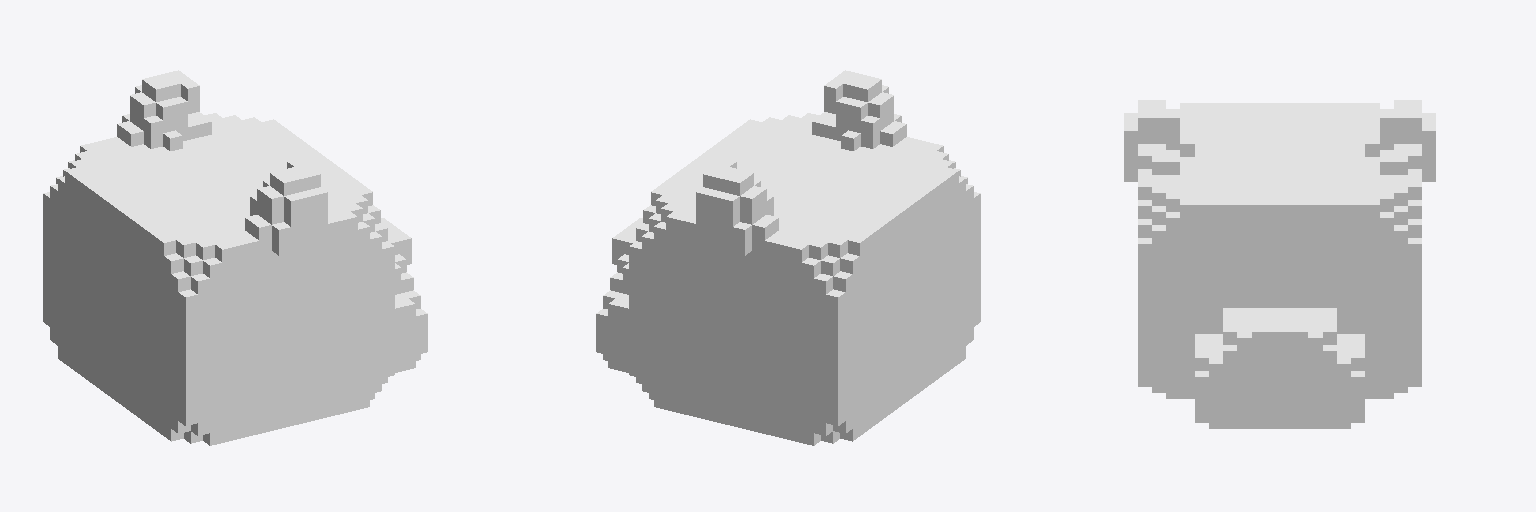
The model's file is bear_tank-2.obj.
3 renders of one model, left to right at view 1: azimuth 30°, elevation 25°; view 2: azimuth 150°, elevation 25°; view 3: azimuth 270°, elevation 25°, orthographic.
Visible parts, largest first — view 1: object 1; view 2: object 1; view 3: object 1.
Part boxes in pixels (x1,y1,x2,y2): object 1: (43,70,427,445); object 1: (596,70,980,445); object 1: (1124,100,1435,428).
Bounding box in the file's own units: 2.3 × 2.1 × 2.2.